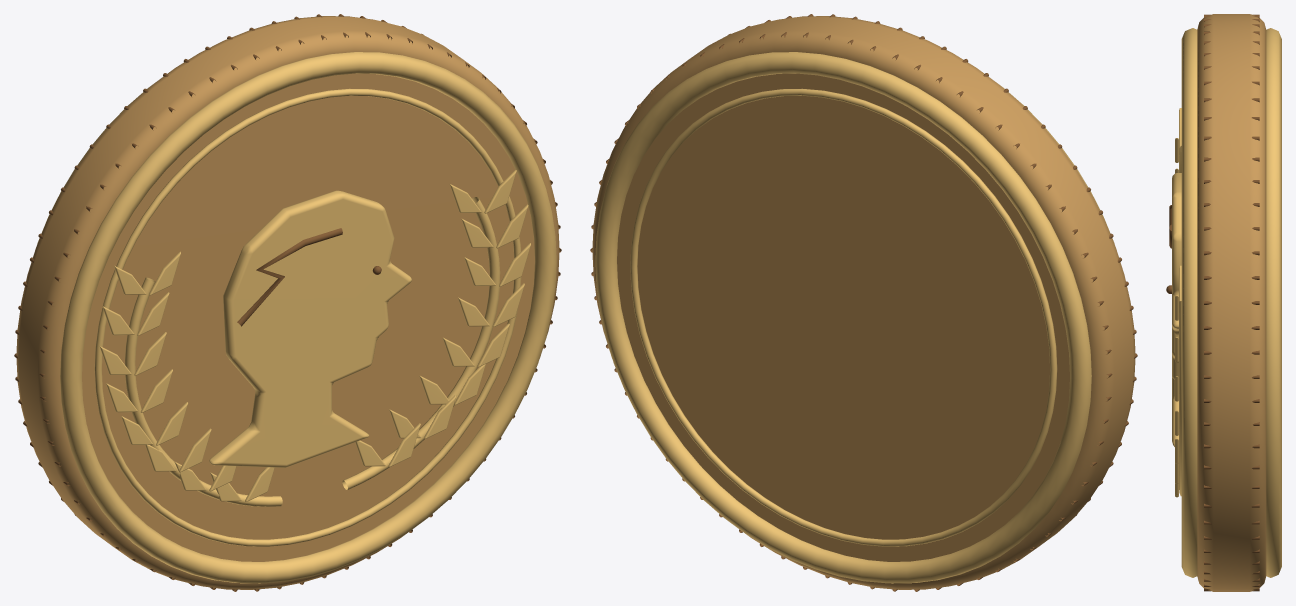
The model's file is gallery-treasure-coin.glb.
3 views of the same model, side by side, from view 1: azimuth 30°, elevation 25°; view 2: azimuth 150°, elevation 25°; view 3: azimuth 270°, elevation 25° (orthographic). The views are drawn at different scales.
Visible parts, largest first — view 1: Single gold coin; view 2: Single gold coin; view 3: Single gold coin.
Part boxes in pixels (x1,y1,x2,y2): Single gold coin: (14,14,561,591); Single gold coin: (590,14,1137,591); Single gold coin: (1166,14,1281,591).
Size of the model in its own units: 0.208 by 0.208 by 0.0416.
